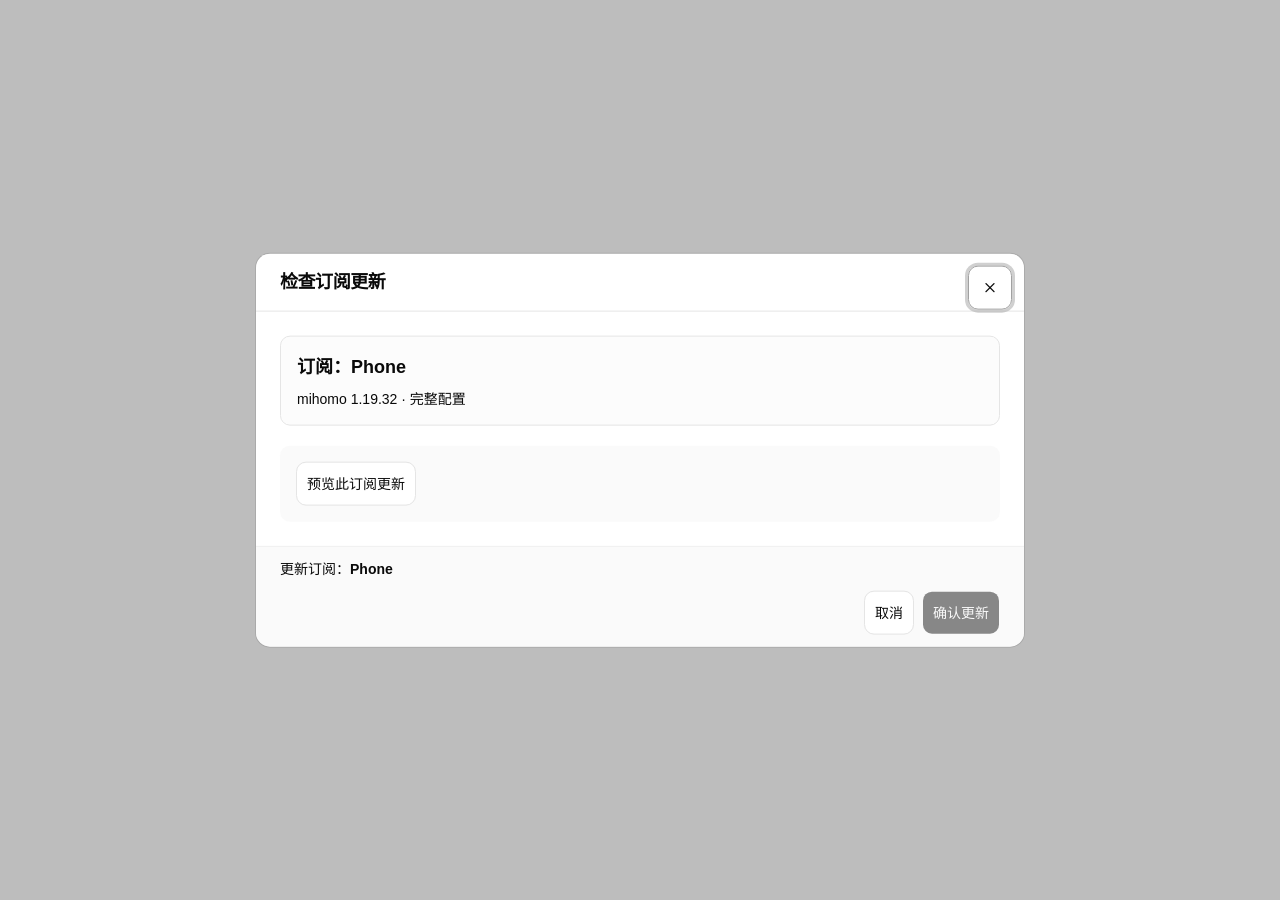
Scenario: explains a member-only group change before unchanged rules without opening technical JSON
This screenshot has width=1280, height=900.
Click the button "预览此订阅更新" at (356, 483), box 296,461 -> 416,505
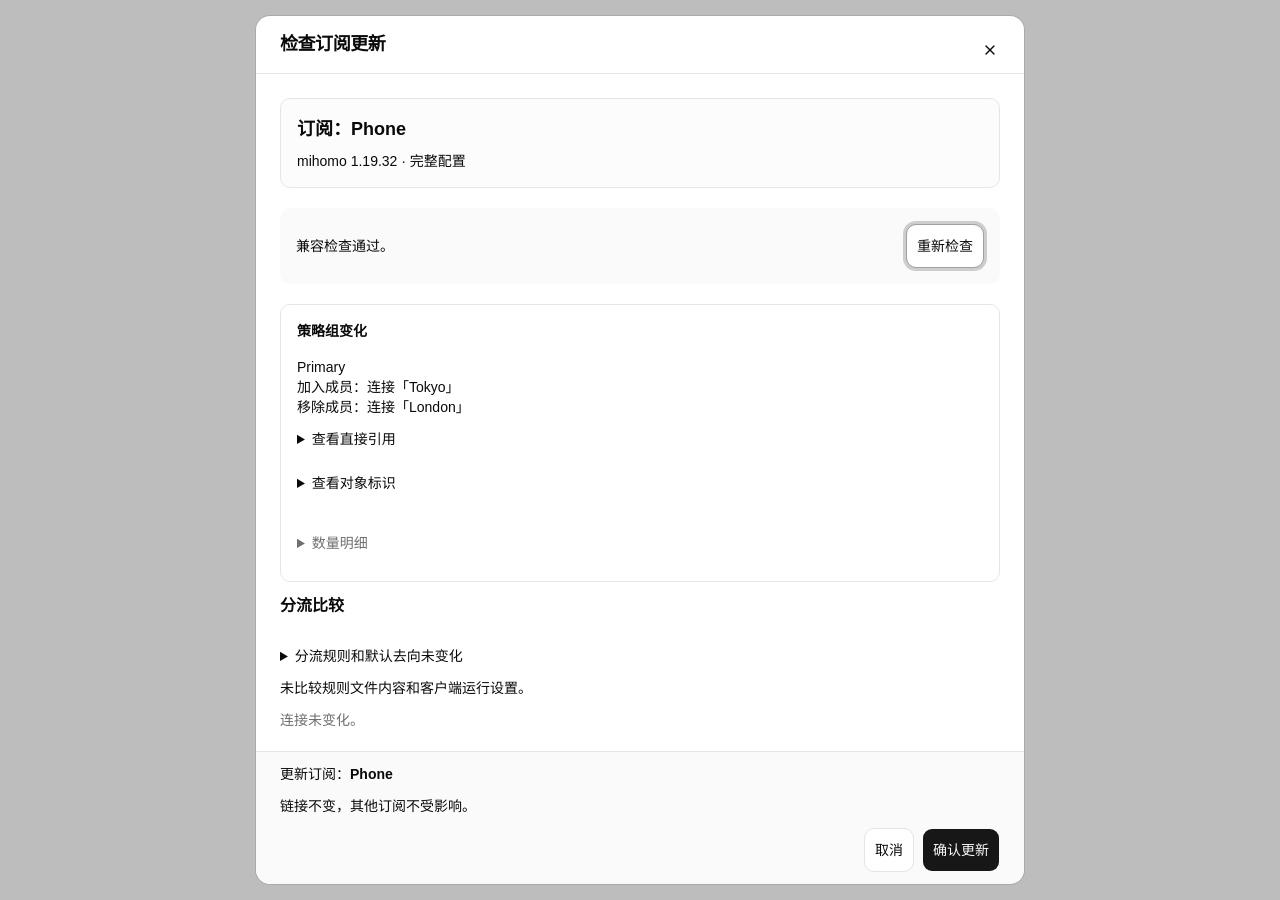
Result: the text "兼容检查通过。" is shown at 296,236 -> 394,256
Result: the heading "Primary" is shown at 297,359 -> 345,375
Result: the text "加入成员：连接「Tokyo」" is shown at 297,379 -> 460,395
